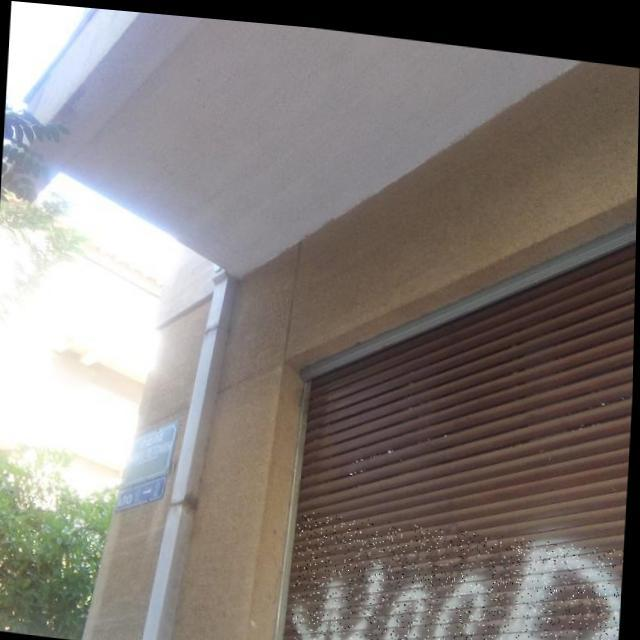-: (292, 504, 626, 640)
